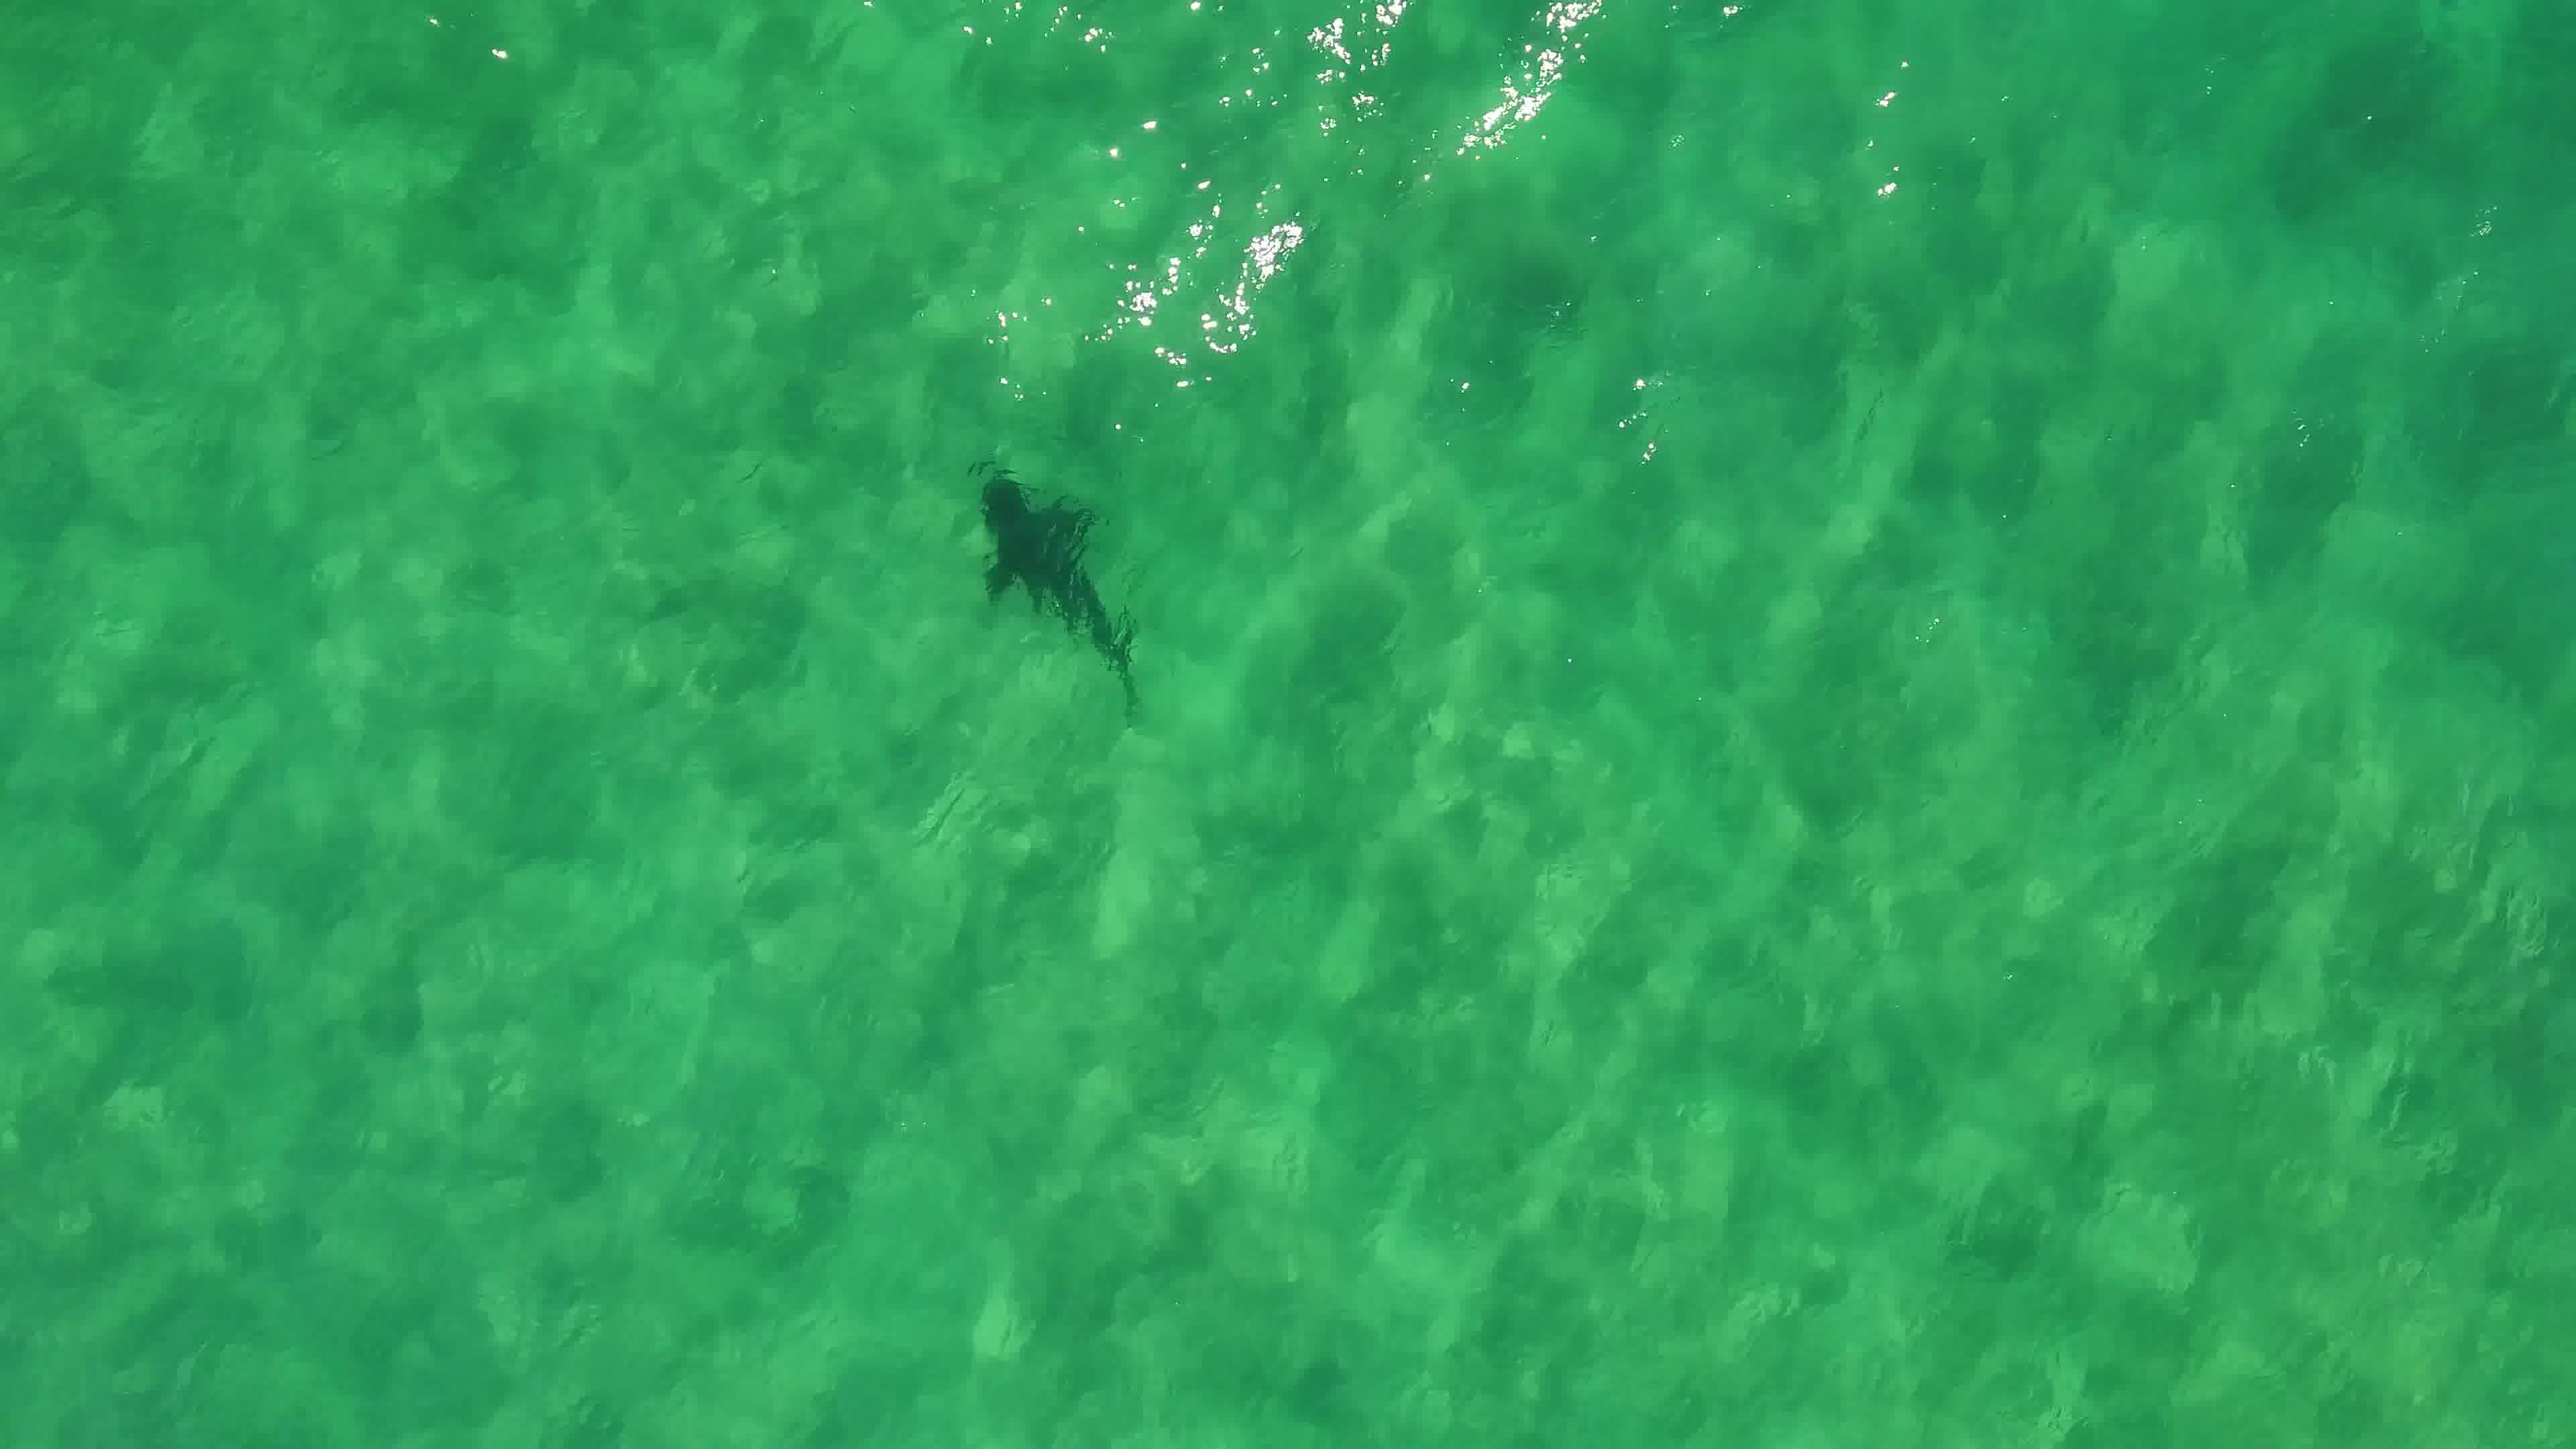shark: (971, 464, 1150, 708)
